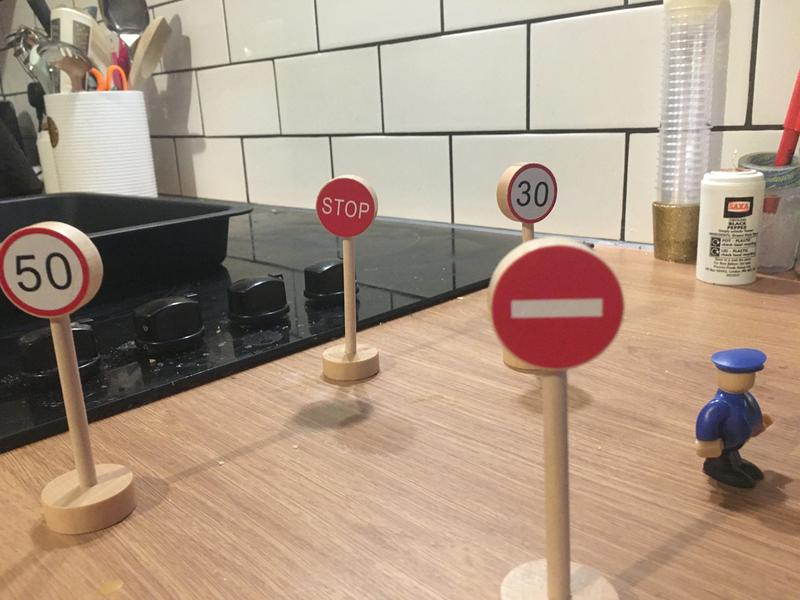Traffic_Sign_30: (508, 164, 558, 220)
Traffic_Sign_50: (1, 232, 88, 313)
Traffic_Sign_Stop: (316, 178, 377, 237)
person: (688, 345, 783, 497)
